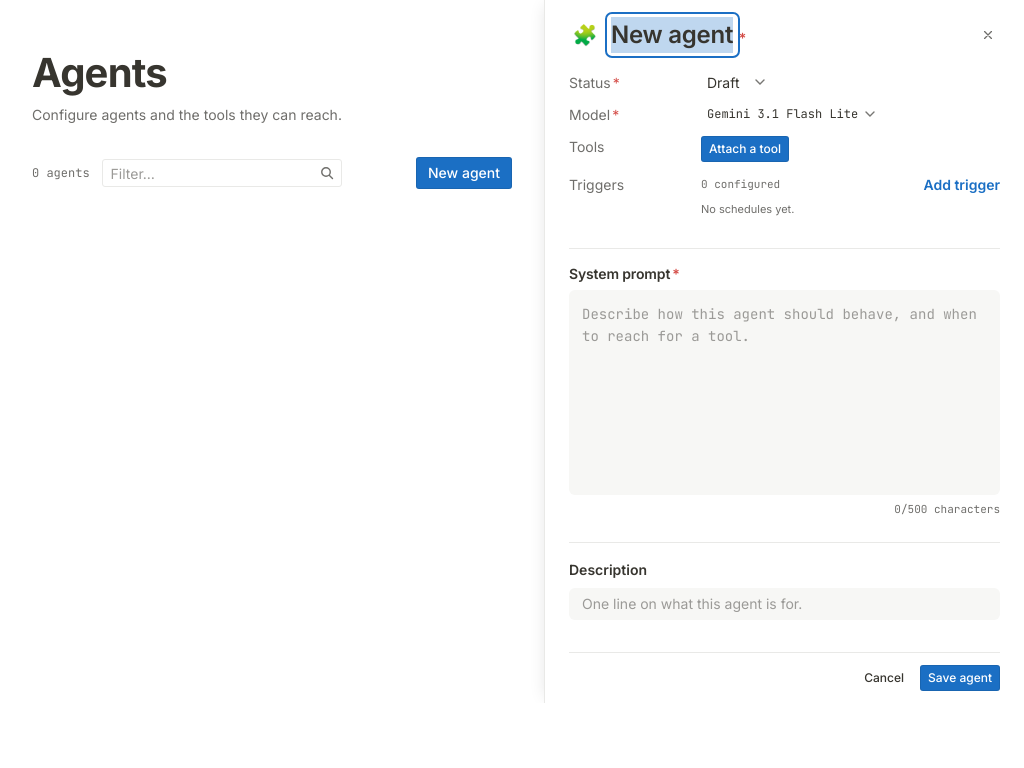
AgentsPage draft validation › reports a cleared name, and clears the message once it is retyped
Clear the field named "Agent name" at (672,35), box top-left (609, 16), bottom-right (736, 54)
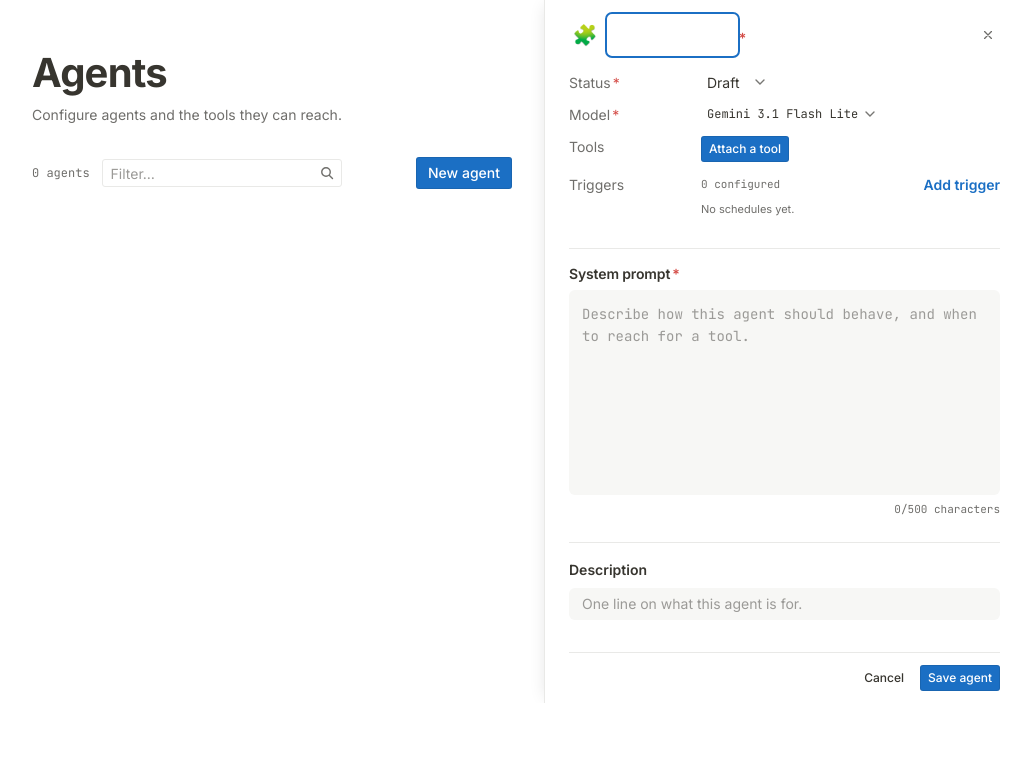
Type "Be terse." into the text box named "System prompt" at (784,393), box top-left (569, 290), bottom-right (1000, 495)
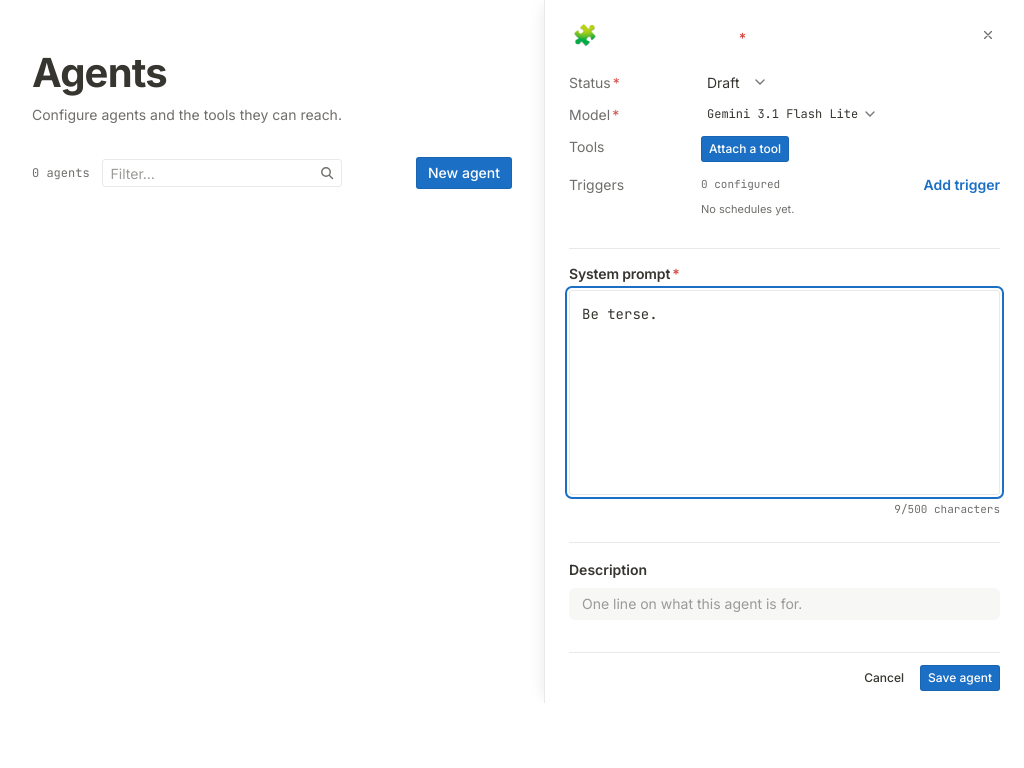
Click the button "Save agent" at (960,678), box top-left (920, 665), bottom-right (1000, 691)
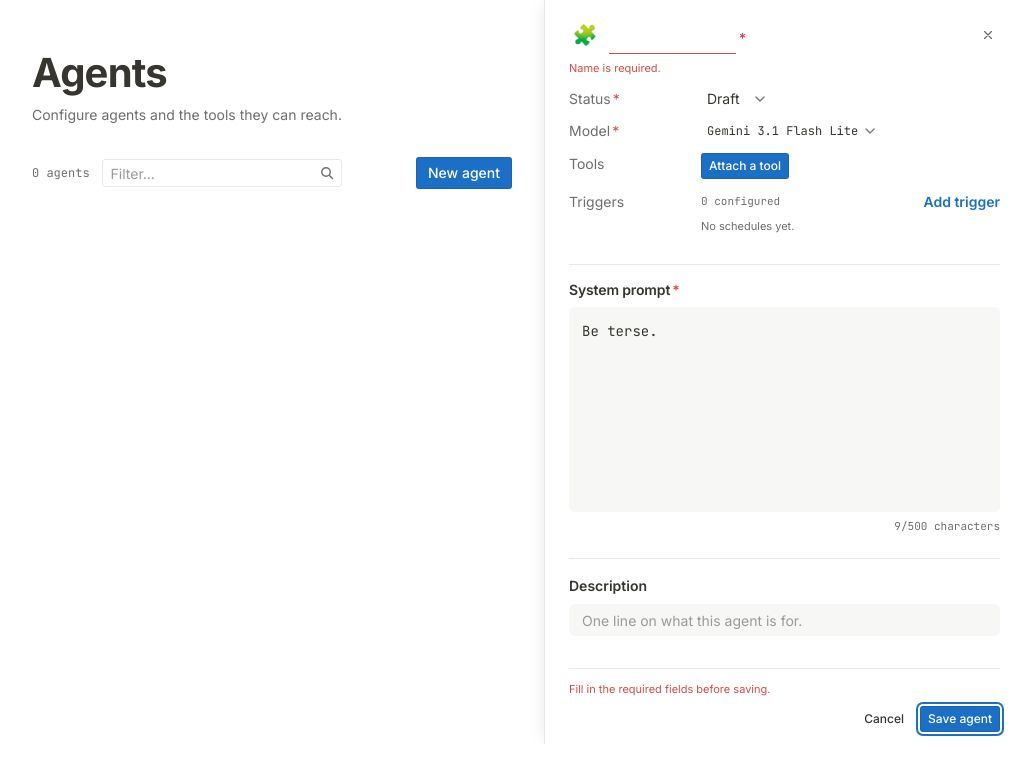
Expected: the text "Name is required." is shown, top-left (569, 61), bottom-right (661, 75)
Type "Support Bot" into the field named "Agent name" at (672,35), box top-left (609, 16), bottom-right (736, 54)
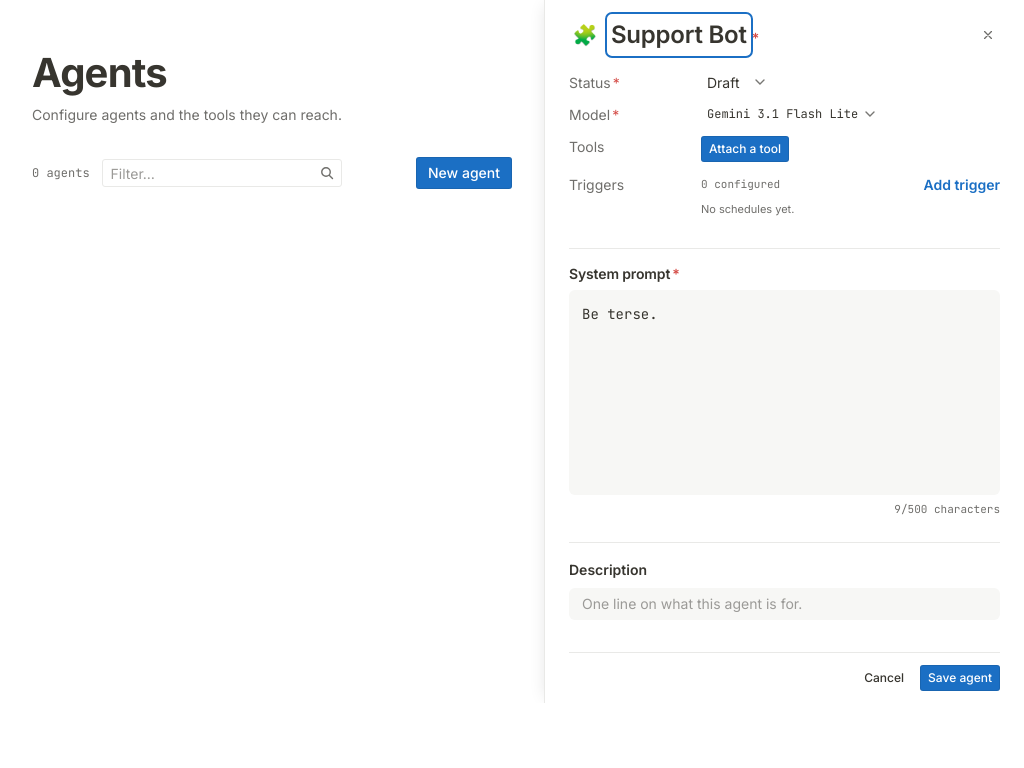
Expected: the text "Name is required." is gone
